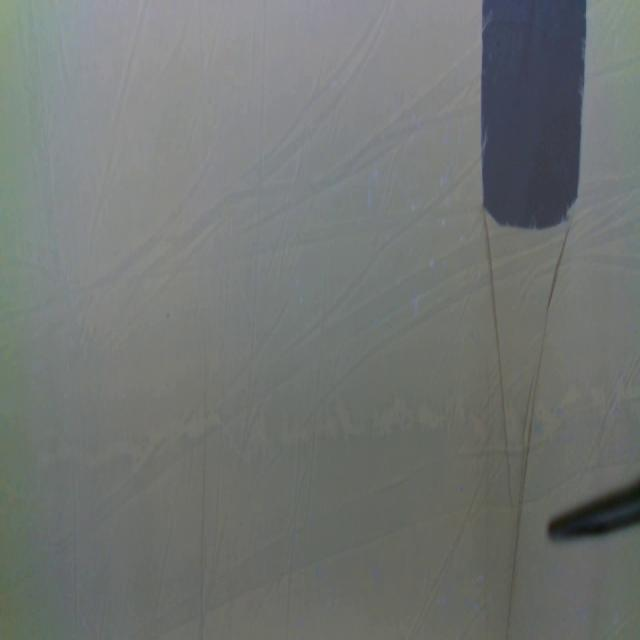crease: (520, 229, 570, 511), (484, 212, 514, 501), (197, 365, 211, 635), (504, 516, 523, 640)
hole: (479, 0, 588, 233)
